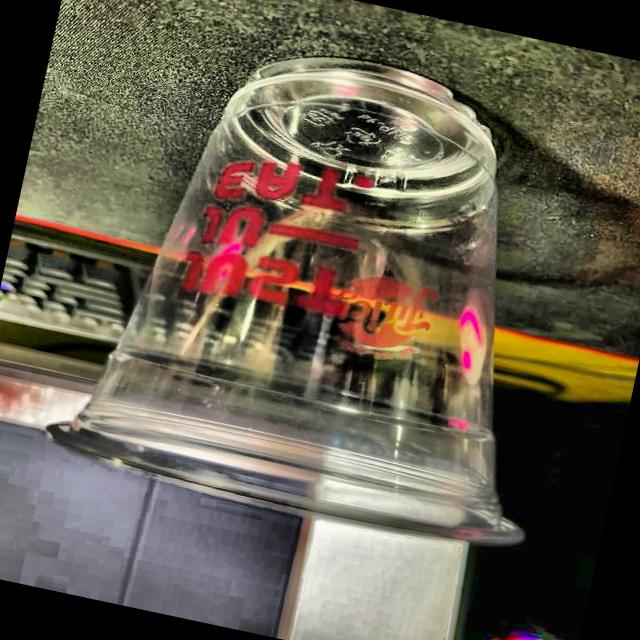plastic cup: (38, 8, 620, 566)
